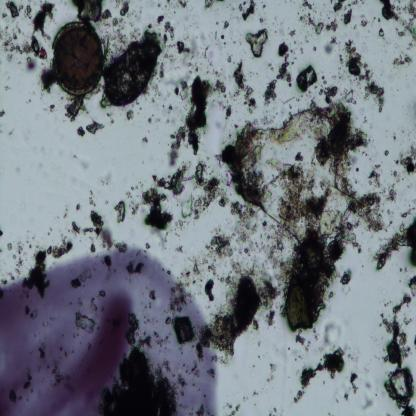Background material: (197, 262, 278, 355), (279, 231, 345, 332), (97, 28, 165, 110), (145, 161, 221, 229), (163, 78, 212, 170), (230, 196, 292, 266), (44, 210, 126, 254), (351, 161, 401, 231), (293, 347, 344, 404), (378, 292, 416, 366), (374, 218, 416, 270), (174, 244, 217, 286), (339, 38, 373, 86), (383, 366, 415, 416), (1, 22, 30, 62), (71, 0, 113, 26), (124, 177, 145, 219), (31, 2, 55, 38), (395, 0, 416, 38), (363, 83, 387, 116), (317, 74, 341, 106), (244, 29, 269, 57), (62, 95, 84, 122), (38, 66, 56, 98), (177, 32, 196, 62), (401, 139, 416, 177), (345, 130, 370, 152), (276, 58, 294, 88), (343, 230, 365, 254), (111, 193, 128, 224), (333, 0, 354, 25), (323, 322, 343, 348), (218, 232, 236, 260), (296, 66, 317, 90), (30, 33, 48, 60), (233, 57, 246, 92), (173, 75, 190, 101), (263, 77, 278, 106), (201, 276, 217, 302), (380, 0, 400, 20), (306, 13, 324, 35), (392, 52, 413, 70), (254, 108, 274, 126), (244, 85, 256, 112), (342, 85, 358, 105), (213, 78, 228, 99), (164, 42, 178, 64), (276, 40, 290, 61), (338, 268, 354, 286), (86, 120, 106, 134), (5, 0, 19, 20), (242, 0, 256, 20), (265, 362, 277, 385), (225, 400, 242, 416), (361, 388, 373, 409), (128, 24, 143, 40), (220, 102, 233, 119), (164, 20, 174, 42), (325, 35, 337, 53), (325, 17, 339, 31), (349, 373, 358, 394), (348, 350, 361, 364), (206, 0, 225, 9), (401, 206, 415, 218), (119, 0, 129, 16), (408, 275, 416, 295), (292, 333, 306, 344), (24, 4, 33, 21), (268, 406, 283, 416), (173, 0, 187, 10), (75, 126, 87, 137), (188, 60, 199, 72), (105, 111, 115, 124), (406, 37, 416, 50), (26, 57, 34, 73), (202, 44, 210, 60), (359, 13, 368, 27), (221, 194, 228, 209), (158, 12, 166, 25), (303, 0, 313, 10), (363, 381, 373, 391), (298, 13, 307, 24), (126, 109, 134, 121), (231, 89, 240, 99), (8, 127, 18, 135), (112, 19, 122, 27), (382, 148, 390, 158), (140, 133, 148, 143), (166, 104, 174, 114), (144, 116, 154, 124), (220, 34, 227, 45), (304, 340, 310, 352), (378, 27, 384, 39), (18, 1, 24, 12), (224, 19, 230, 30), (288, 28, 296, 36), (212, 69, 220, 77), (90, 197, 95, 208), (343, 393, 349, 402), (362, 116, 368, 125), (145, 242, 151, 250), (49, 104, 55, 112), (334, 396, 340, 404), (413, 332, 416, 348), (2, 10, 7, 18), (4, 84, 9, 92), (227, 54, 232, 62), (253, 390, 259, 396), (116, 0, 122, 6), (394, 159, 400, 165), (305, 34, 309, 43), (0, 111, 5, 118), (237, 5, 242, 12), (300, 46, 304, 54), (25, 100, 31, 105), (352, 0, 358, 5), (214, 30, 217, 40), (260, 18, 265, 24), (261, 4, 267, 9), (352, 23, 356, 30), (360, 0, 365, 5), (290, 50, 296, 54), (251, 364, 256, 368), (313, 9, 317, 14), (293, 40, 297, 45), (242, 1, 247, 5), (166, 119, 170, 124), (392, 136, 396, 140), (348, 3, 352, 7), (313, 47, 317, 51), (258, 342, 261, 347), (329, 0, 332, 5), (356, 168, 359, 173), (0, 63, 4, 66), (378, 18, 381, 22), (330, 10, 333, 14), (373, 16, 376, 20), (216, 21, 219, 25), (297, 11, 299, 15), (288, 347, 290, 350), (328, 16, 330, 19), (258, 356, 260, 358), (313, 3, 315, 5)
Diatom: (53, 17, 100, 103)
Fragment: (222, 108, 356, 242)
Pen: (0, 242, 223, 416)
